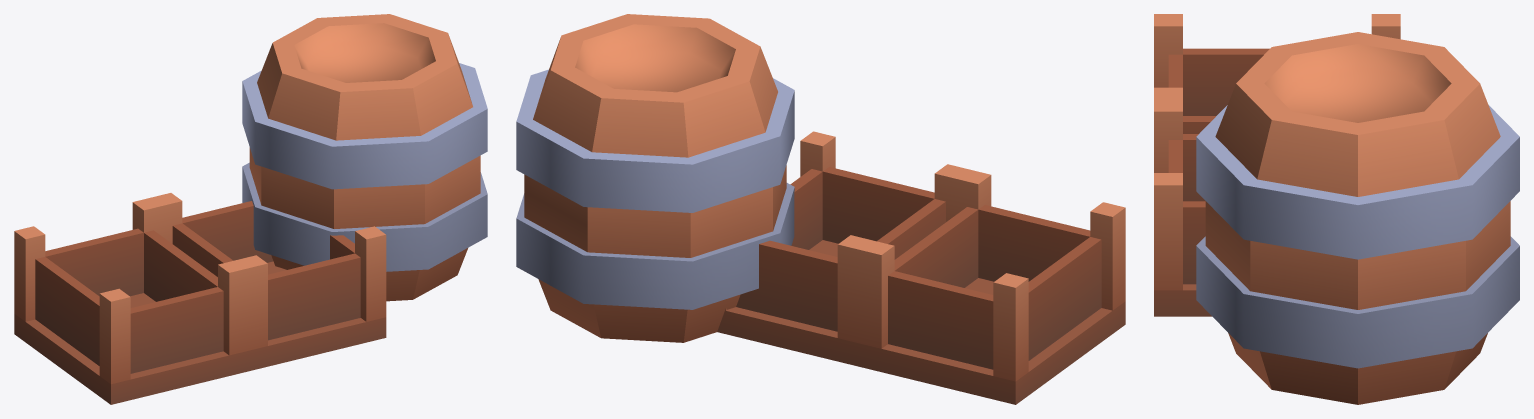
Rendered from module-cargo.glb.
3 views of the same model, side by side, from view 1: azimuth 30°, elevation 25°; view 2: azimuth 150°, elevation 25°; view 3: azimuth 270°, elevation 25° (orthographic). The views are drawn at different scales.
Visible parts, largest first — view 1: barrel.021, crate.032, crate.033; view 2: barrel.021, crate.032, crate.033; view 3: barrel.021, crate.033, crate.032.
Part boxes in pixels (left/top/right/bottom): barrel.021: left=242, top=14, right=487, bottom=301; crate.032: left=14, top=197, right=248, bottom=404; crate.033: left=152, top=193, right=386, bottom=371; barrel.021: left=516, top=14, right=794, bottom=342; crate.032: left=859, top=169, right=1125, bottom=404; crate.033: left=717, top=131, right=968, bottom=366; barrel.021: left=1196, top=32, right=1519, bottom=404; crate.033: left=1154, top=99, right=1211, bottom=316; crate.032: left=1154, top=14, right=1400, bottom=133.
Size of the model in its own units: 2.43 by 1.11 by 1.36.
2 materials, 2 textured.
